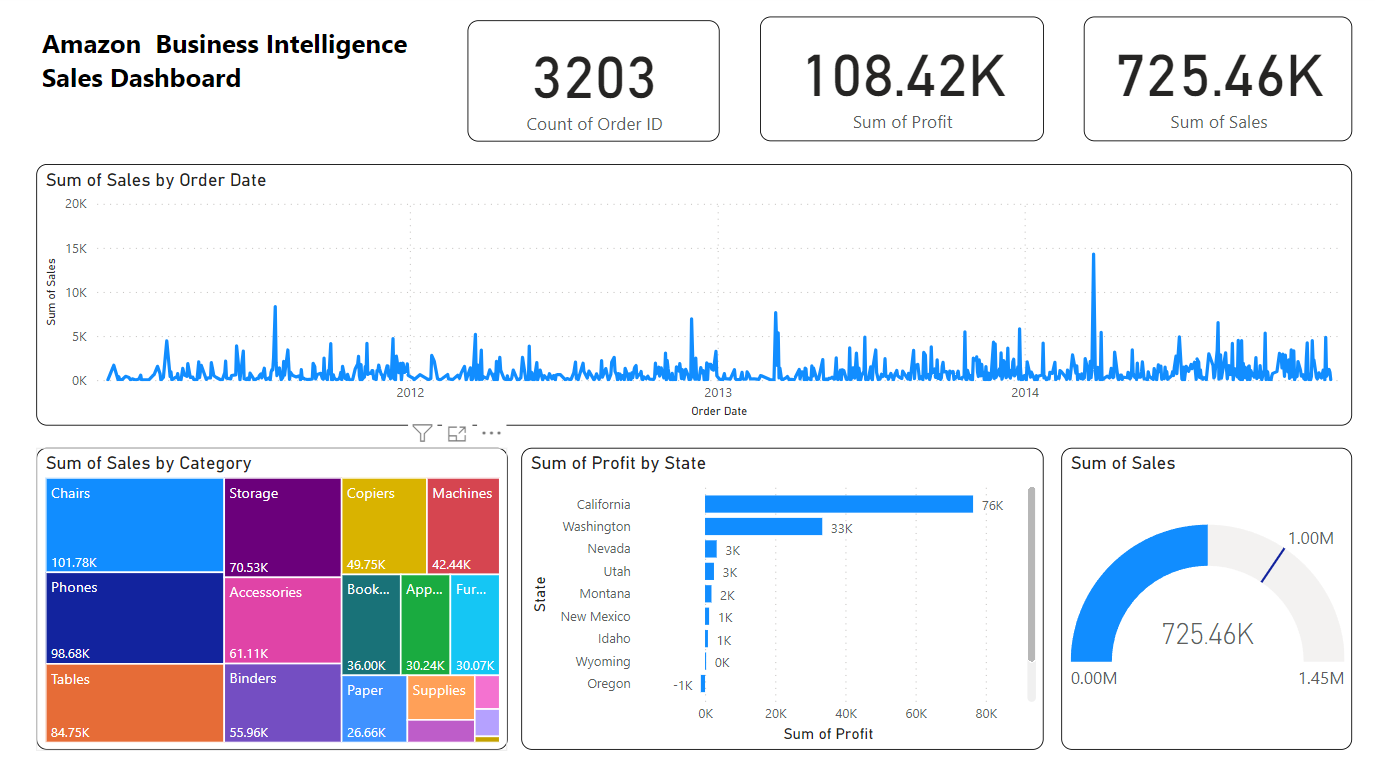

Layout of this report page (visuals, bound fields, positions):
{"tool":"powerbi","page":{"name":"Page 1","canvas":[1280,720],"ordinal":0},"visuals":[{"type":"card","fields":{"Values":["Sum(Walmart.Sales)"]},"box":[1007.4,20.9,249.8,116.2],"z":0},{"type":"card","fields":{"Values":["Sum(Walmart.Profit)"]},"box":[706.5,20.9,263.8,116.2],"z":1000},{"type":"card","fields":{"Values":["CountNonNull(Walmart.Order ID)"]},"box":[434.6,24.4,234.7,112.7],"z":2000},{"type":"lineChart","fields":{"Category":["Walmart.Order Date"],"Y":["Sum(Walmart.Sales)"]},"box":[33.7,158,1223.5,242.8],"z":3000},{"type":"treemap","fields":{"Group":["Walmart.Category"],"Values":["Sum(Walmart.Sales)"]},"box":[33.7,421.8,438.1,281.2],"z":4000},{"type":"clusteredBarChart","fields":{"Category":["Walmart.State"],"Y":["Sum(Walmart.Profit)"]},"box":[484.5,421.8,485.7,281.2],"z":5000},{"type":"gauge","fields":{"Y":["Sum(Walmart.Sales)"]},"box":[986.5,421.8,270.7,281.2],"z":6000},{"type":"textbox","box":[33.7,24.4,369.5,116.2],"z":7000}]}

Visuals, with their boxes in screenshot pixels (x1, y1, x2, y2), scaled from the page's 1280x720 canvas onto the 1375x761 screenshot:
card - Sum(Walmart.Sales): bbox(1082, 22, 1351, 145)
card - Sum(Walmart.Profit): bbox(759, 22, 1042, 145)
card - CountNonNull(Walmart.Order ID): bbox(467, 26, 719, 145)
lineChart - Walmart.Order Date x Sum(Walmart.Sales): bbox(36, 167, 1351, 424)
treemap - Walmart.Category x Sum(Walmart.Sales): bbox(36, 446, 507, 743)
clusteredBarChart - Walmart.State x Sum(Walmart.Profit): bbox(520, 446, 1042, 743)
gauge - Sum(Walmart.Sales): bbox(1060, 446, 1351, 743)
textbox: bbox(36, 26, 433, 149)
